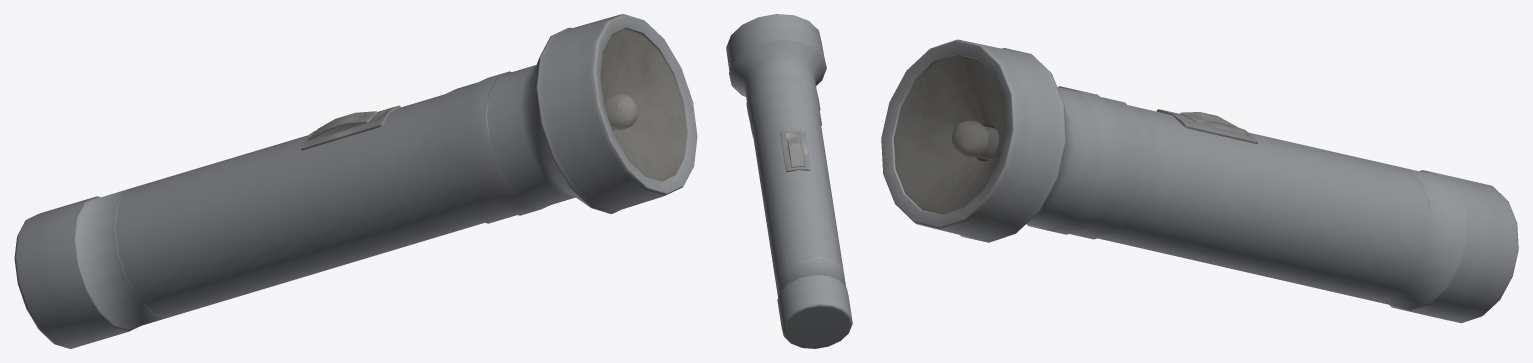
The model's file is Flashlight2.obj.
3 views of the same model, side by side, from view 1: azimuth 30°, elevation 25°; view 2: azimuth 150°, elevation 25°; view 3: azimuth 270°, elevation 25° (orthographic). The views are drawn at different scales.
Visible parts, largest first — view 1: diantong:Body.002, diantong:Body.005; view 2: diantong:Body.002; view 3: diantong:Body.002, diantong:Body.005.
Boxes of the visible parts, <box> form: diantong:Body.002: <box>14,14,697,348</box>; diantong:Body.005: <box>600,28,686,181</box>; diantong:Body.002: <box>726,14,852,348</box>; diantong:Body.002: <box>881,39,1518,323</box>; diantong:Body.005: <box>894,54,1005,214</box>.
Bounding box in the file's own units: 1.68 × 1.45 × 1.98.
